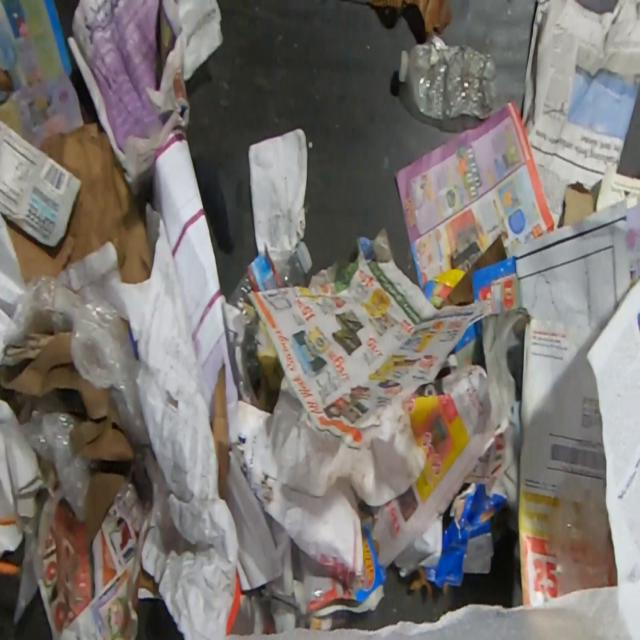cardboard: (0, 332, 136, 542), (3, 122, 154, 286), (408, 474, 508, 596), (213, 361, 231, 501), (558, 182, 598, 226)
rigid_plastic: (226, 240, 314, 386), (398, 34, 500, 122)
soft_plastic: (0, 258, 151, 448), (11, 408, 92, 626), (542, 472, 617, 598)
